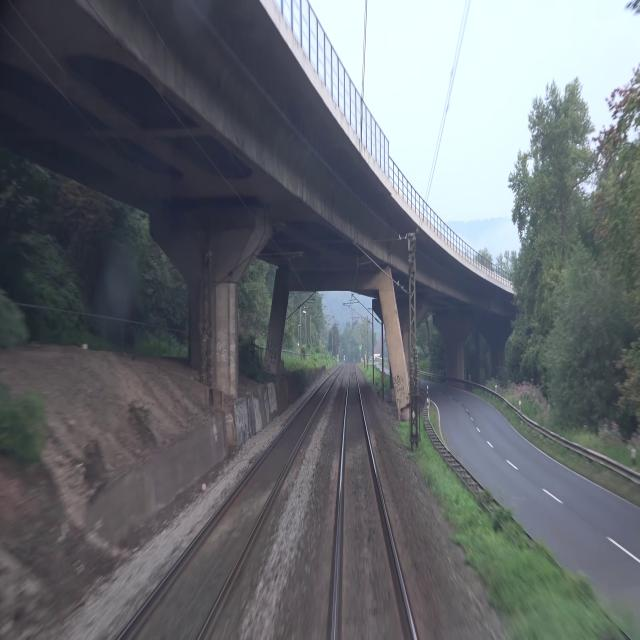rail-track: (123, 377, 332, 639), (336, 366, 411, 639)
